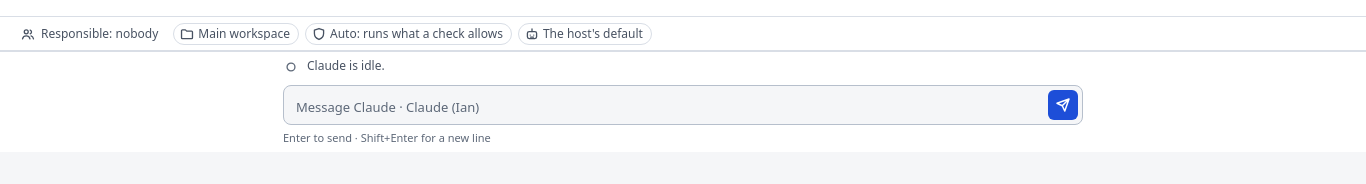
composer: a member with agent access › "@" offers the members and fills the mentions; a text that could not be sent stays with the reason
In the dropdown labelled "Message Claude · Claude (Ian)": point(669, 107) [296,94,1042,120], type "Please check @a"
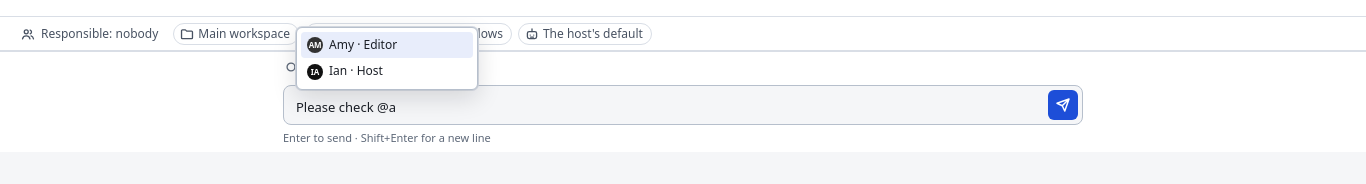
Press Enter in the dropdown named "Message Claude · Claude (Ian)", box [296,94,1042,120]
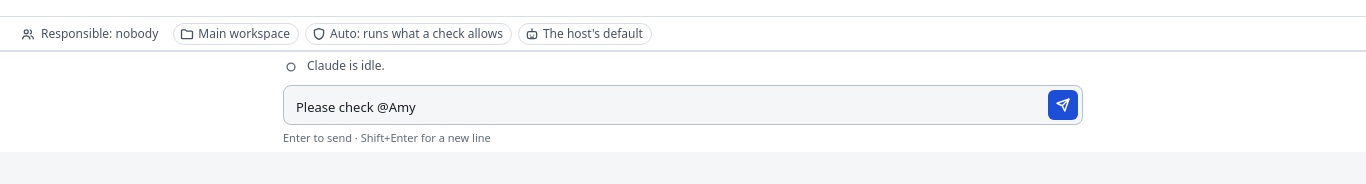
expect the dropdown named "Message Claude · Claude (Ian)" holds "Please check @Amy ": met, box [296,94,1042,120]
expect the list is gone: met
Click the button named "Send": point(1063, 105) [1048,90,1078,120]
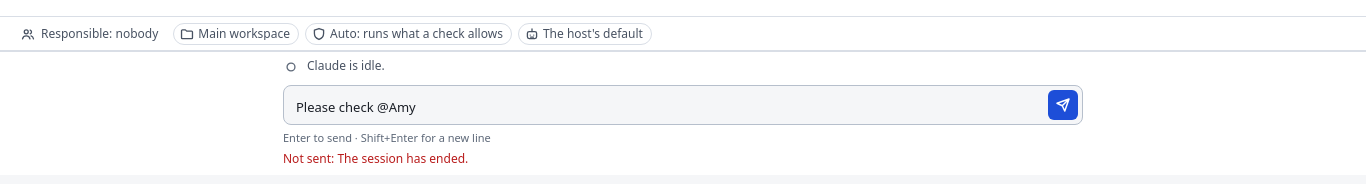
expect the dropdown named "Message Claude · Claude (Ian)" holds "Please check @Amy ": met, box [296,94,1042,120]
expect the message "Not sent: The session has ended." is shown: met, box [283,150,468,167]
